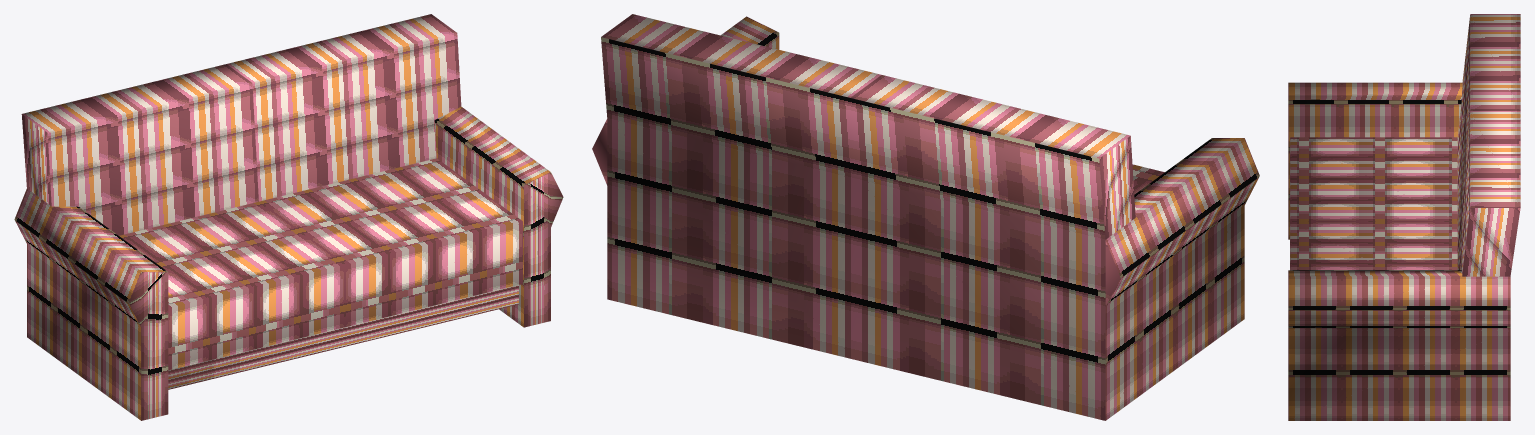
Rendered from 3124IMRL09_17.gltf.
3 views of the same model, side by side, from view 1: azimuth 30°, elevation 25°; view 2: azimuth 150°, elevation 25°; view 3: azimuth 270°, elevation 25° (orthographic). The views are drawn at different scales.
Parts seen in each view (by area): view 1: 3124IMRL09_17; view 2: 3124IMRL09_17; view 3: 3124IMRL09_17.
Boxes of the visible parts, box(x1,y1,x2,y2) form: 3124IMRL09_17: box(14, 14, 563, 420); 3124IMRL09_17: box(592, 14, 1259, 420); 3124IMRL09_17: box(1288, 14, 1520, 420).
Bounding box in the file's own units: 1.9 × 0.9143 × 0.9033.
4 materials, 4 textured.
